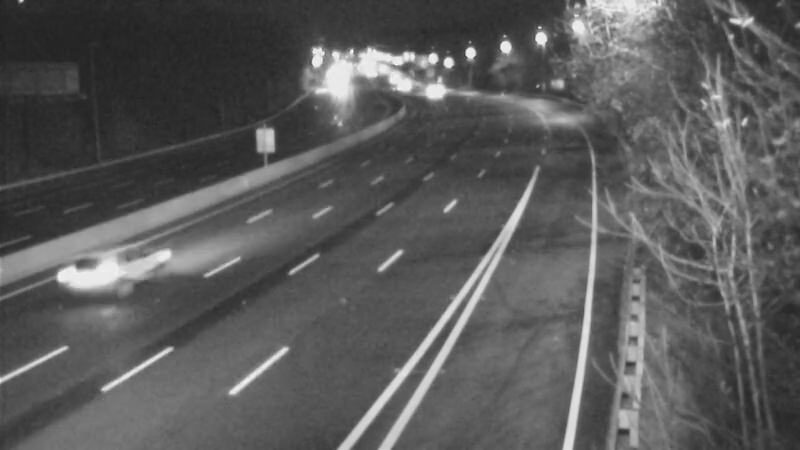vehicle: (59, 239, 139, 319), (406, 65, 456, 115), (310, 58, 360, 108)
